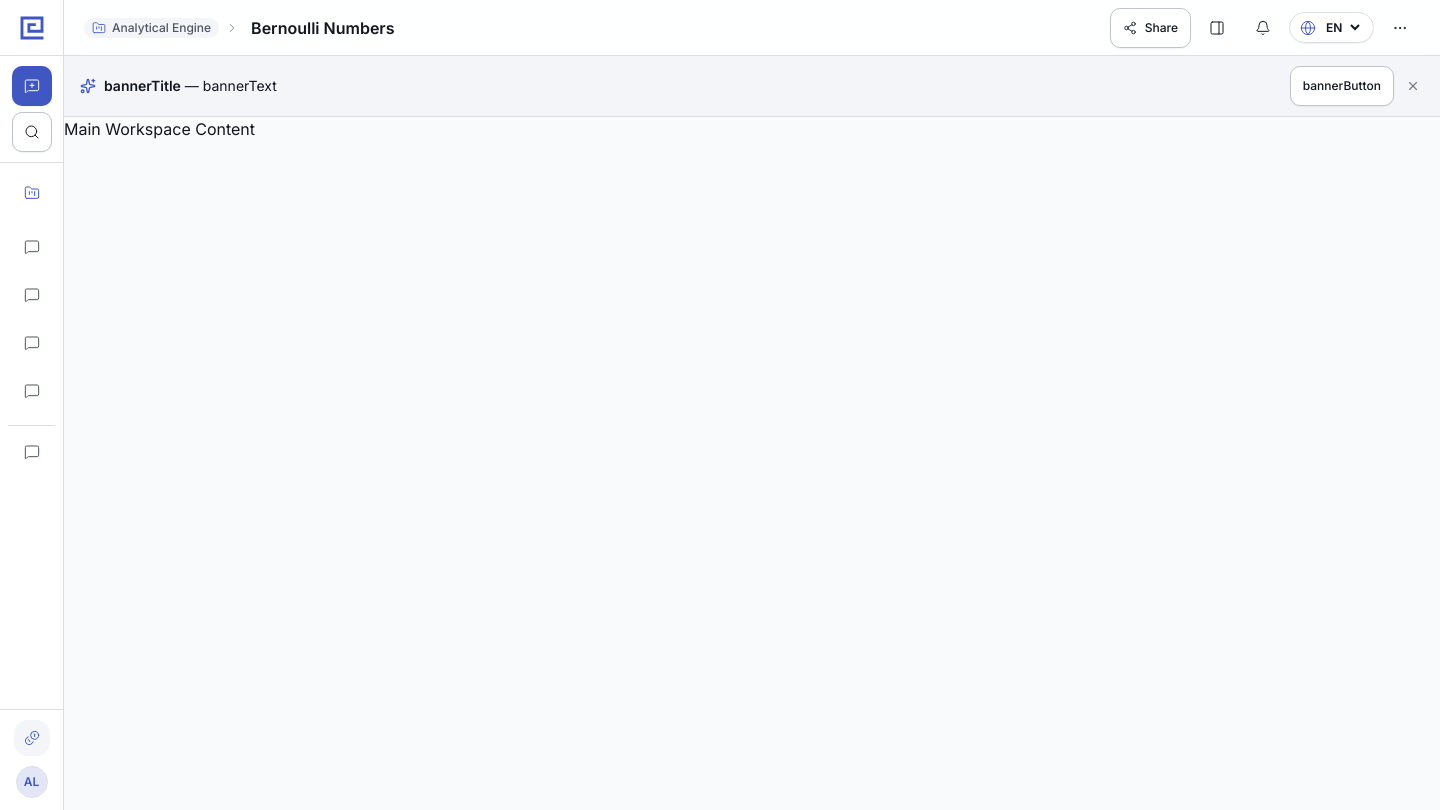
Auto-closing sidebar — app shell › doesn't open on touch, and Escape closes it
Hover over the element showing "AL".
mouse_move(32, 405)  # box [0, 0, 64, 809]
Hover over the element showing "AL".
mouse_move(32, 405)  # box [0, 0, 64, 809]
Wait 300 ms
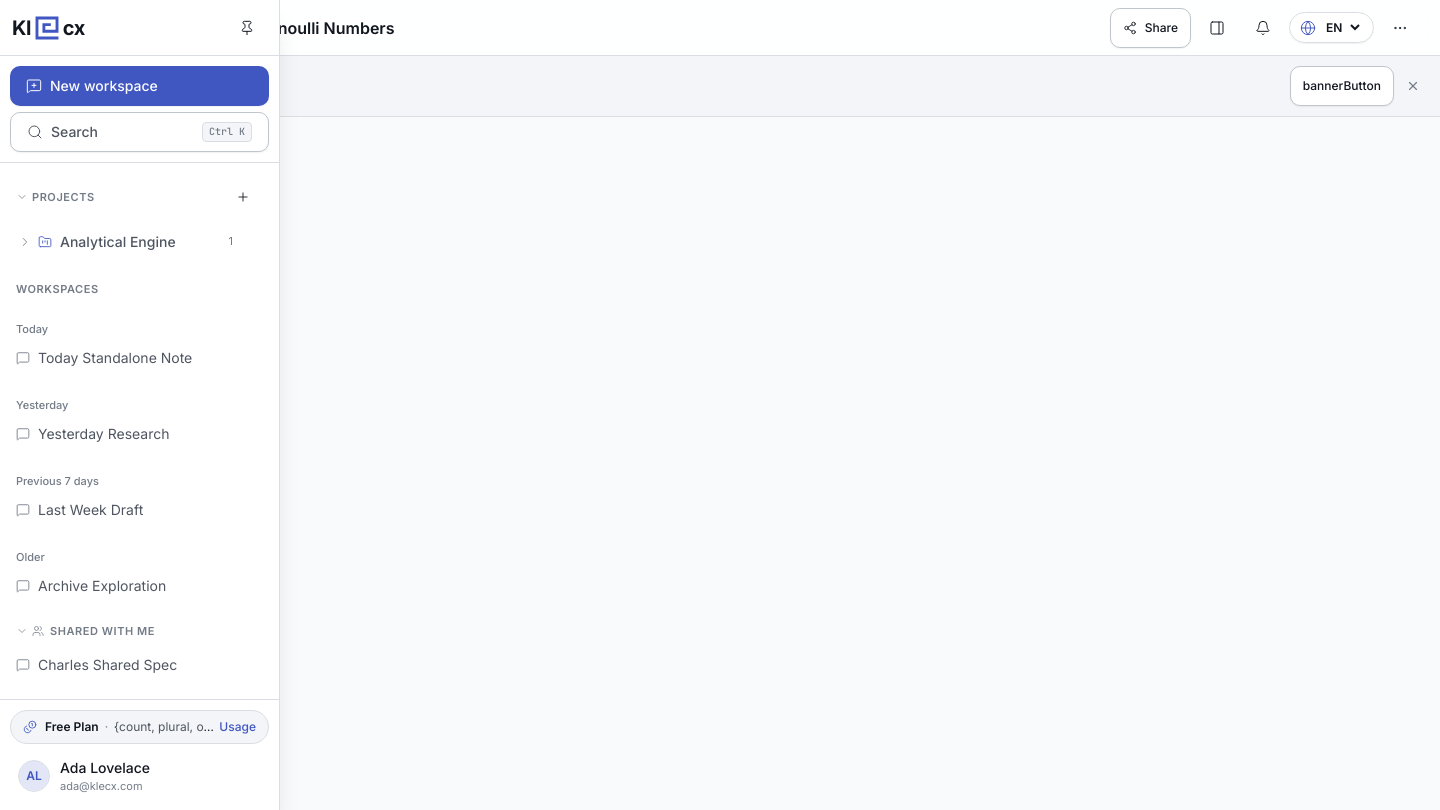
Now the element with test id "sidebar-overlay" is shown, box [0, 0, 280, 809]
Press Escape
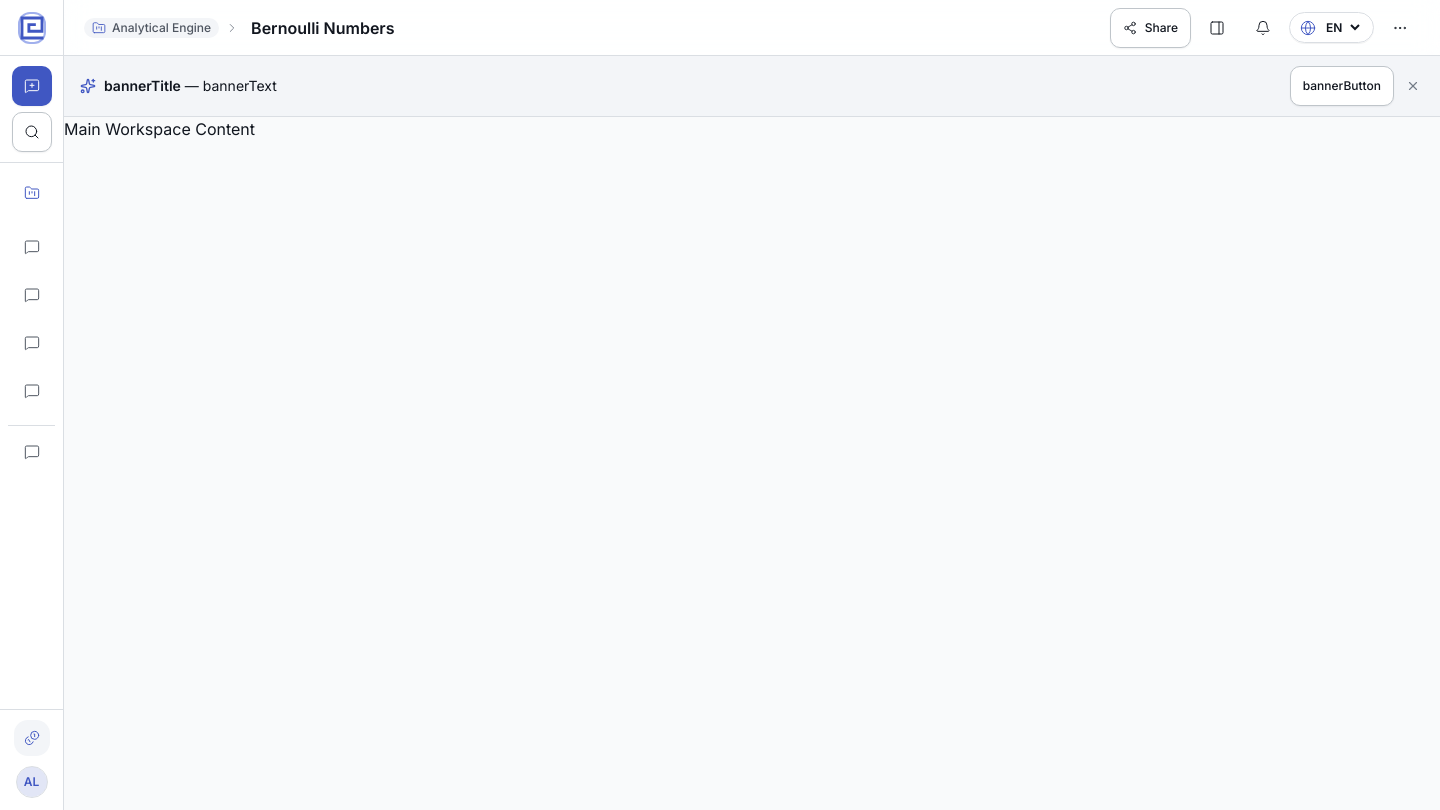
Now the element with test id "sidebar-overlay" is gone
